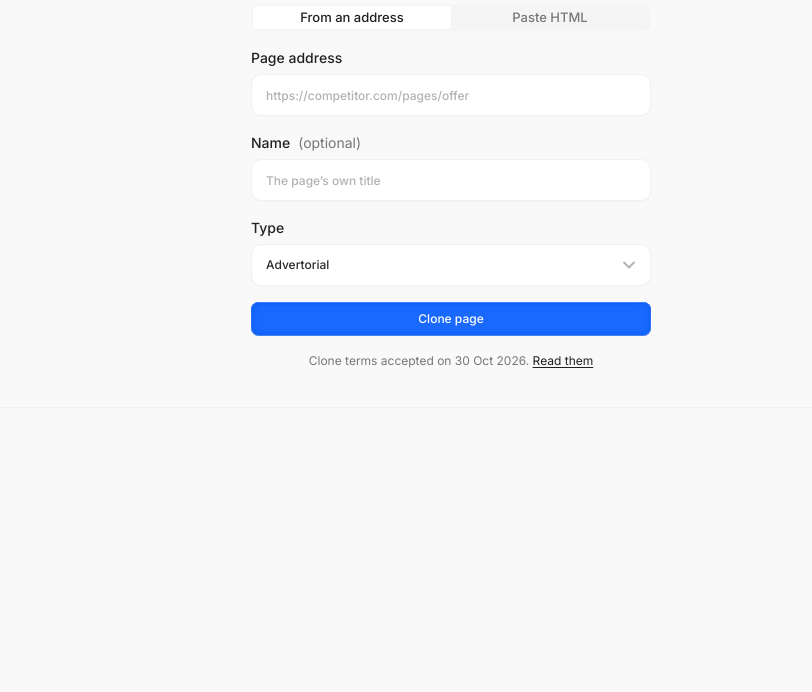
Test case: CloneFlow › checks the address, and takes pasted HTML with where it came from
This screenshot has width=812, height=692.
Step 1. Type "not an address" into the field labelled "Page address" → (451, 95), box [251,74,651,116]
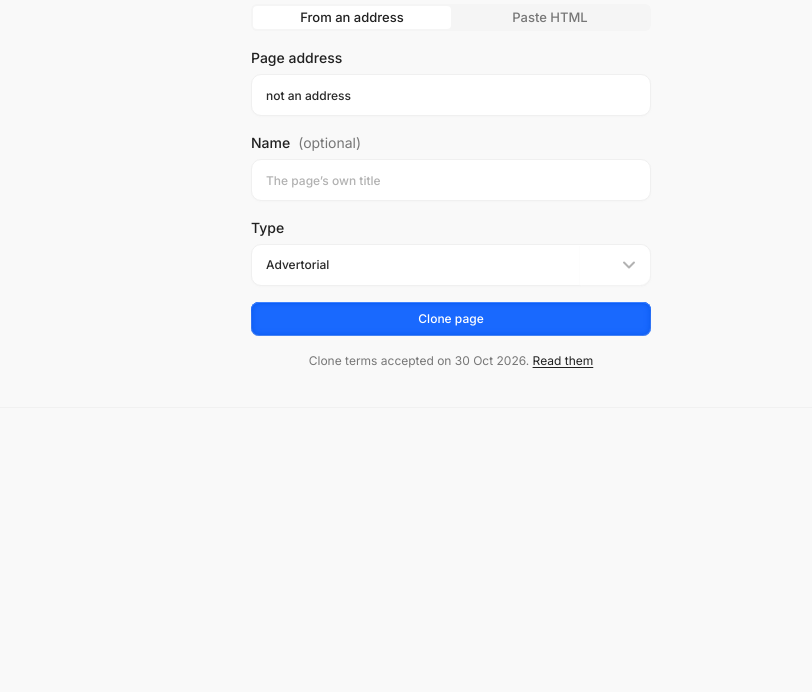
Step 2. Click the button "Clone page" → (451, 319), box [251,302,651,336]
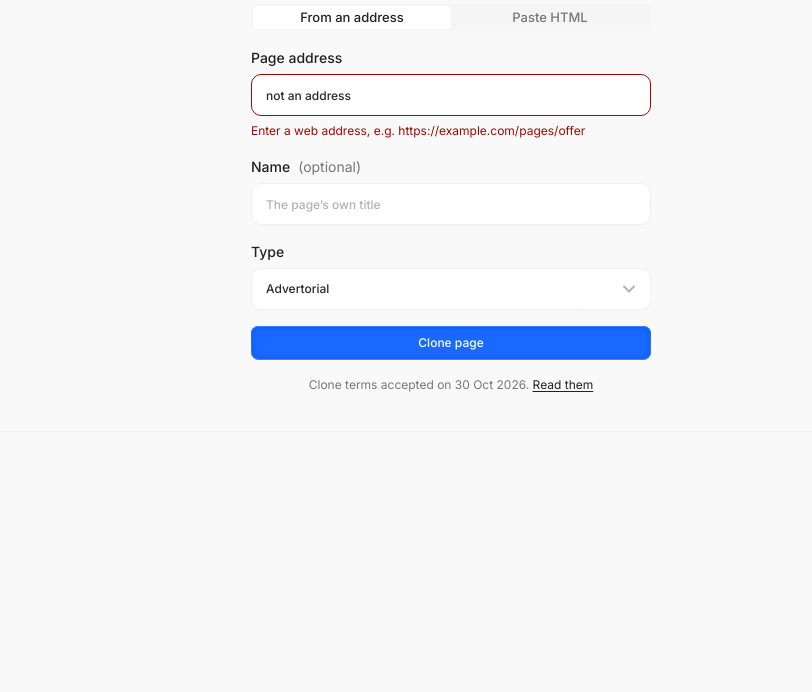
Check: the text "Enter a web address, e.g. https://example.com/pages/offer" is shown, box [251,123,585,138]
Step 3. Click the radio button labelled "Paste HTML" → (550, 17), box [451,6,649,29]
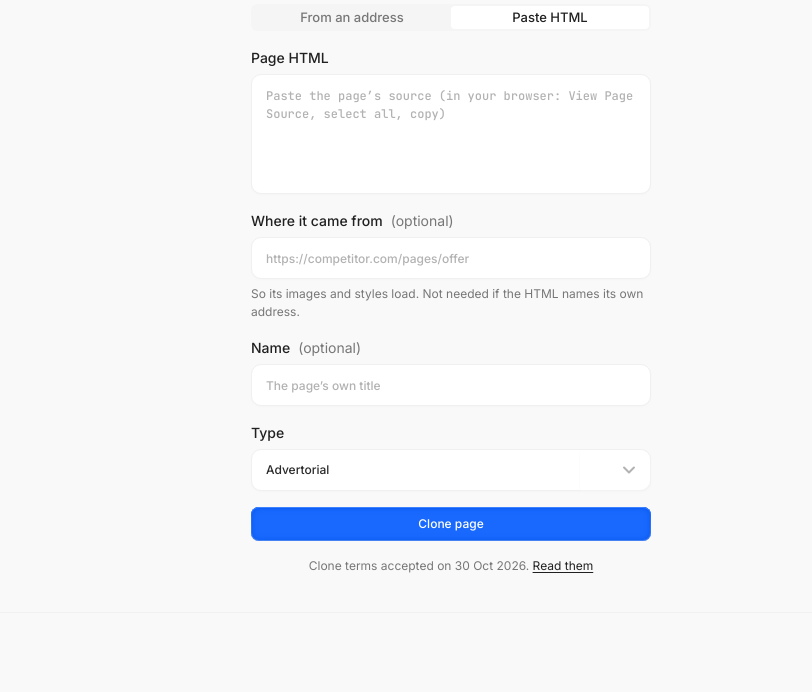
Step 4. Replace the text in the text box labelled "Page HTML" with "<html><body>A page</body></html>" → (451, 134), box [251,74,651,194]
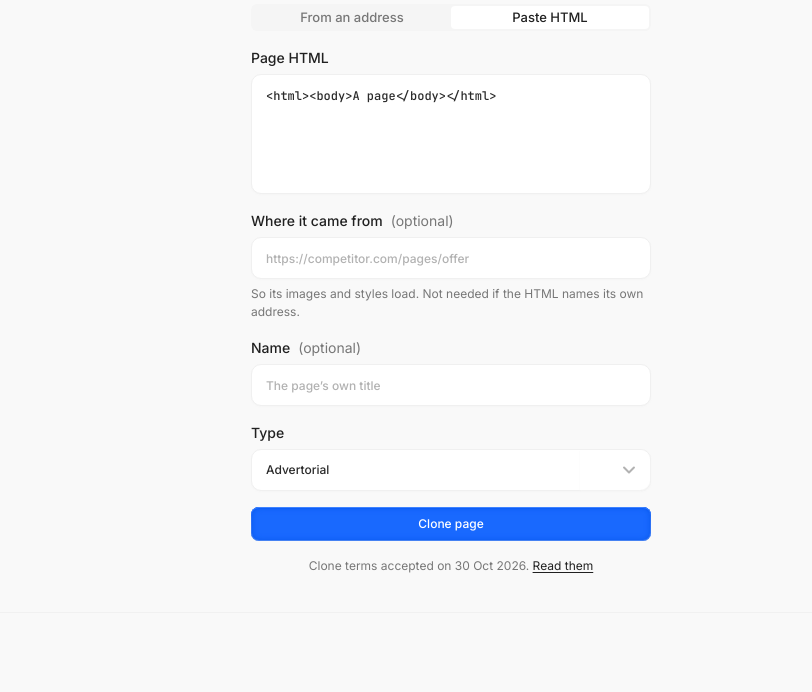
Step 5. Type "https://resilia.shop/pages/gut" into the field labelled "Where it came from (optional)" → (451, 258), box [251,237,651,279]
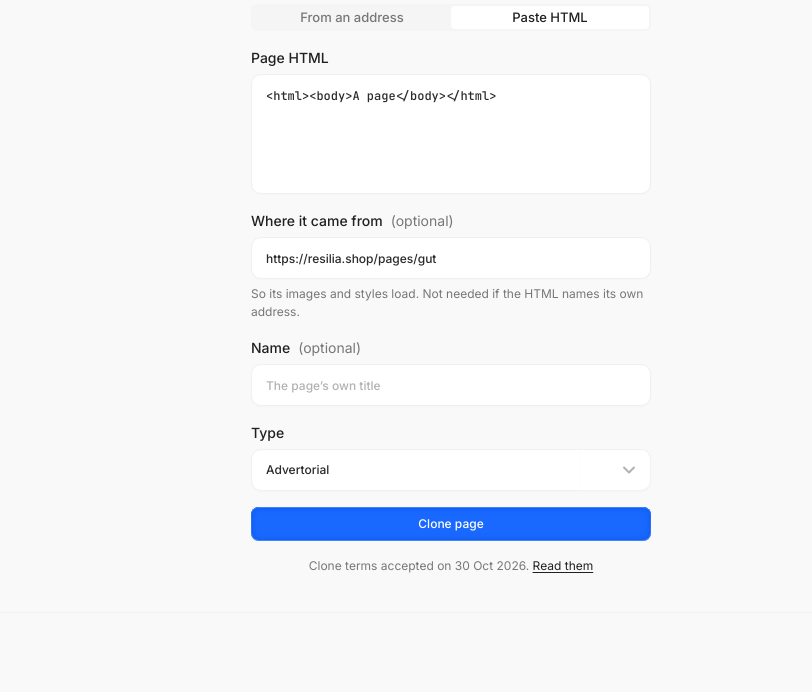
Step 6. Click the button "Clone page" → (451, 524), box [251,507,651,541]
(page scrolled)
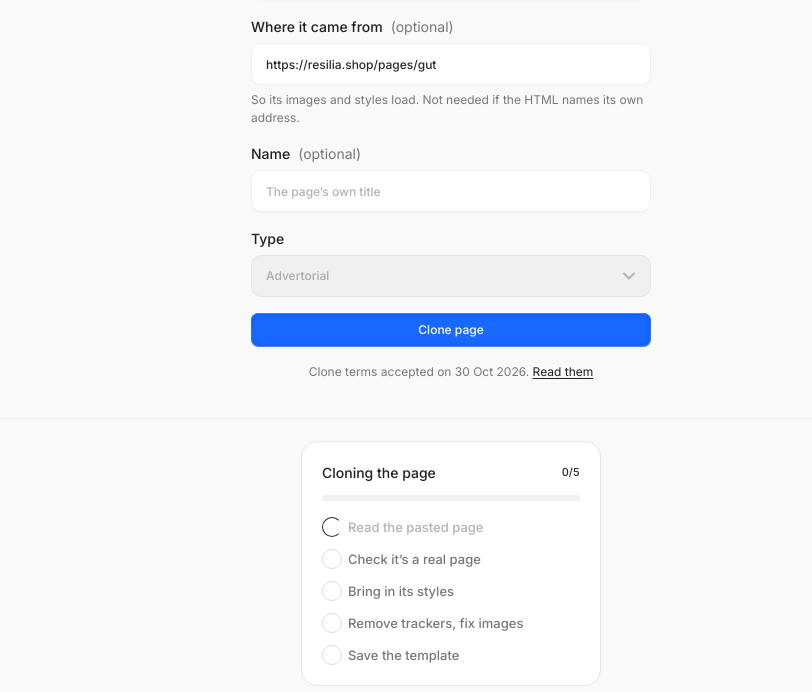
Check: the text "Read the pasted page" is shown, box [348,517,484,537]
